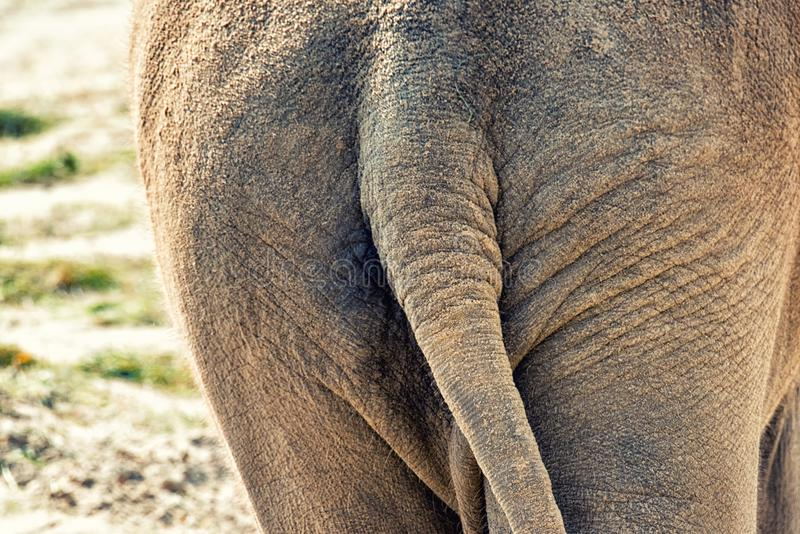elephant: (120, 2, 800, 530)
